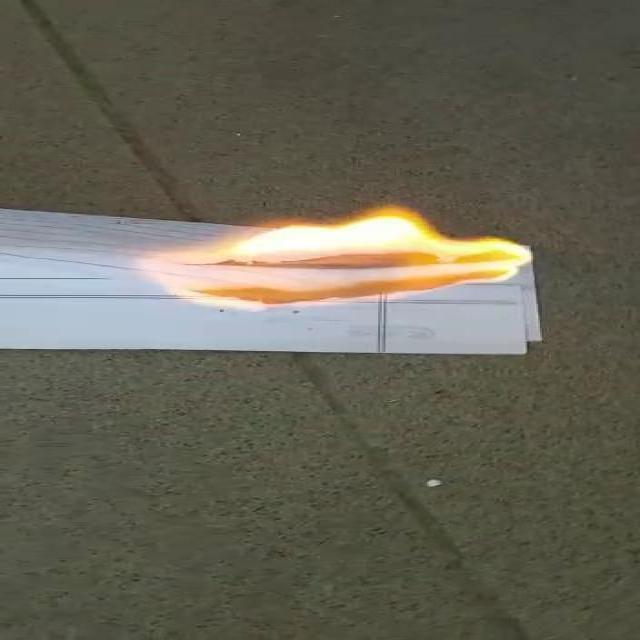Fire: (162, 200, 528, 301)
